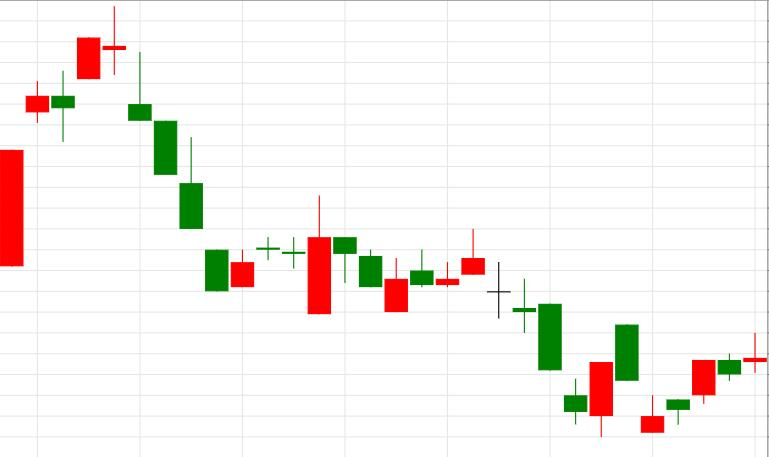bullish_engulfing_rise: (462, 229, 613, 437)
